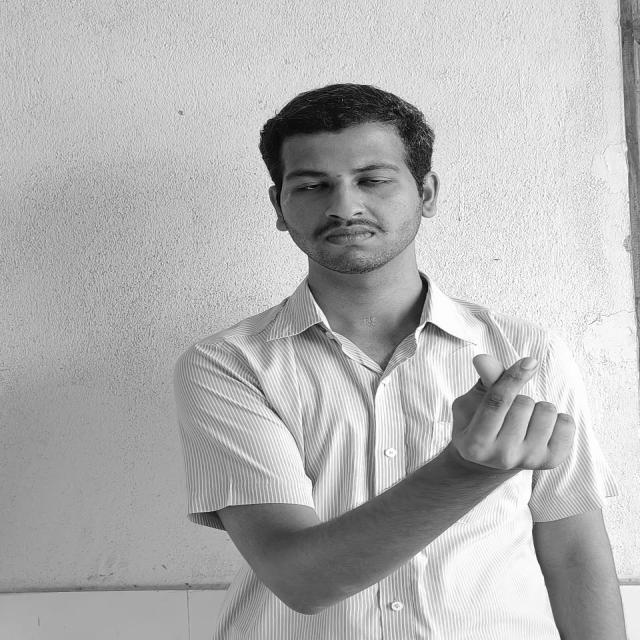Grattitude: (454, 348, 574, 474)
